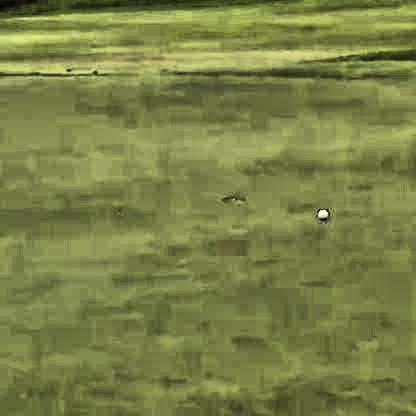golfball: (315, 208, 326, 220)
